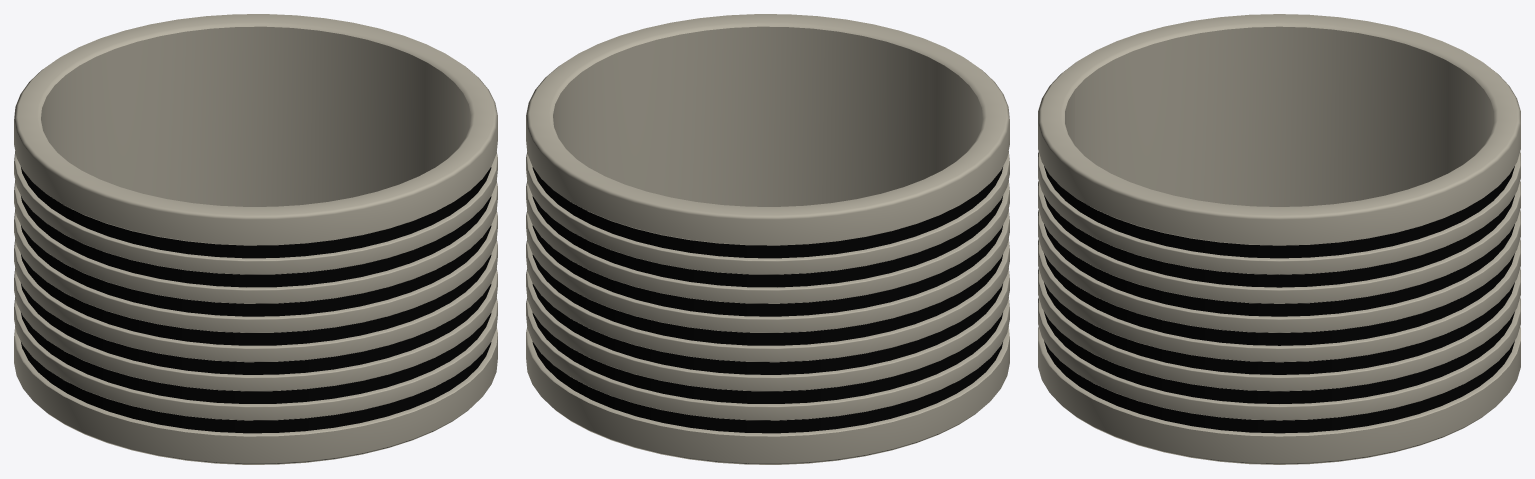
File: Info Pillar3.fbx
The picture shows the model from 3 angles, left to right: view 1: azimuth 30°, elevation 25°; view 2: azimuth 150°, elevation 25°; view 3: azimuth 270°, elevation 25°; orthographic projection.
Visible parts, largest first — view 1: polySurface195; view 2: polySurface195; view 3: polySurface195.
Boxes of the visible parts, x1,y1,x2,y2 form: polySurface195: (14, 14, 497, 464); polySurface195: (526, 14, 1009, 464); polySurface195: (1038, 14, 1520, 464).
Size of the model in its own units: 217 by 124 by 217.
